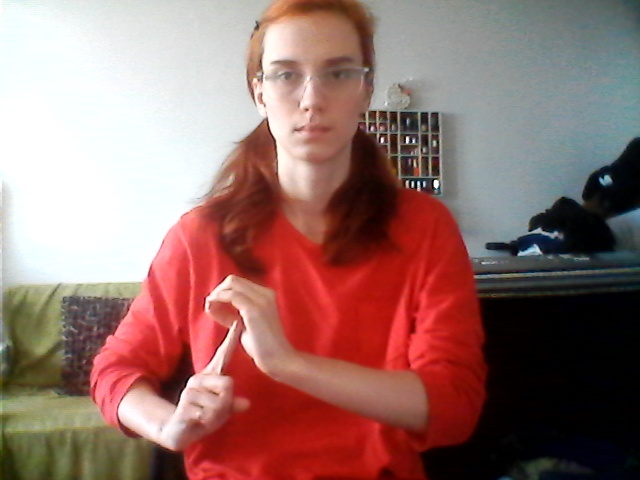q: (168, 267, 314, 460)
